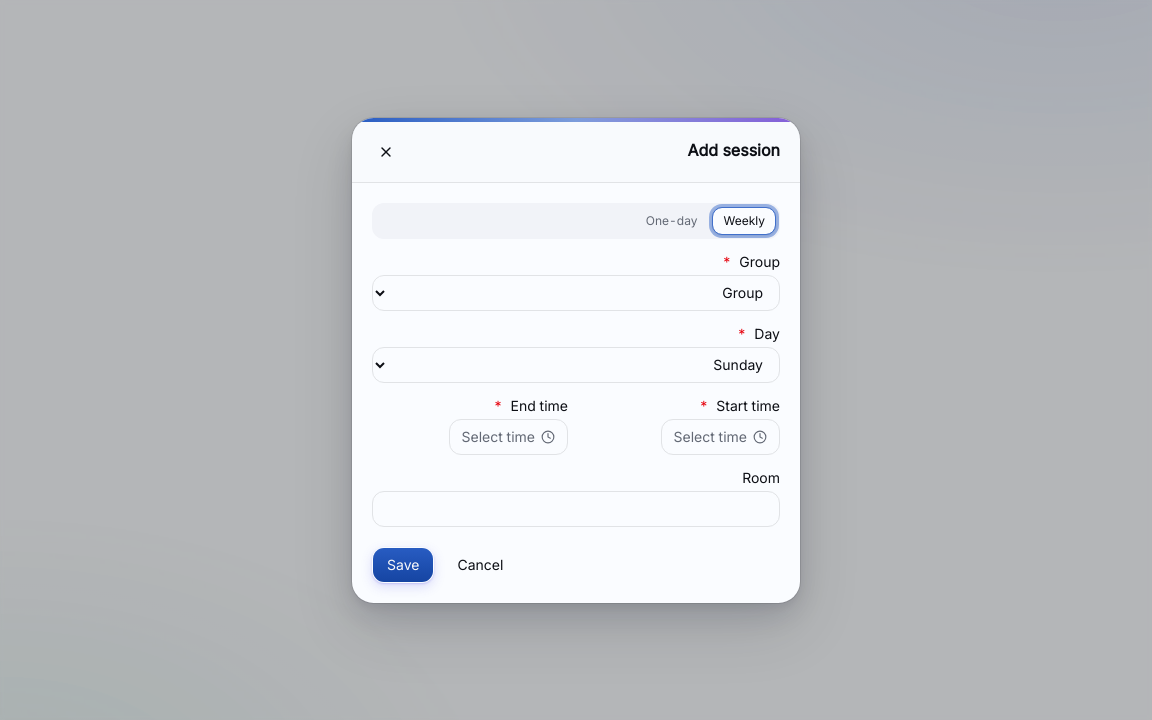
Test: ScheduleFormDialog kind toggle › switches to the one-day date field instead of the weekday field
Click the button "One-day" at (672, 220), box [635,206,708,234]
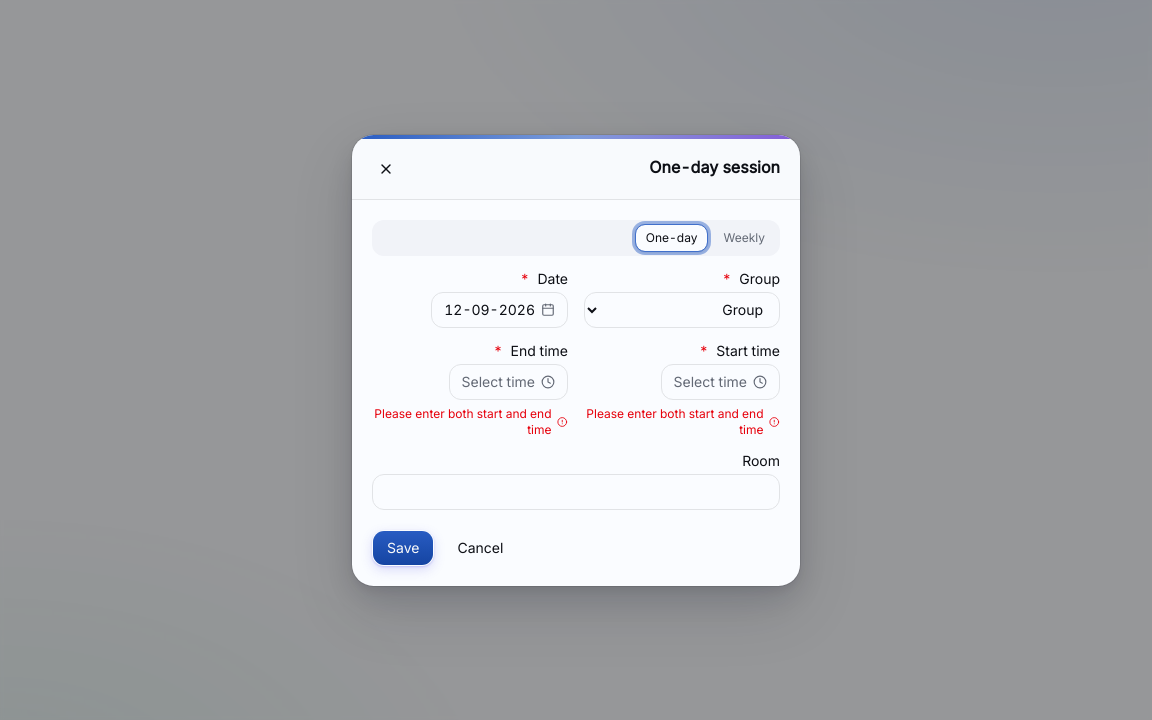
Check: the button named "Date" is shown, box [431,292,568,328]
